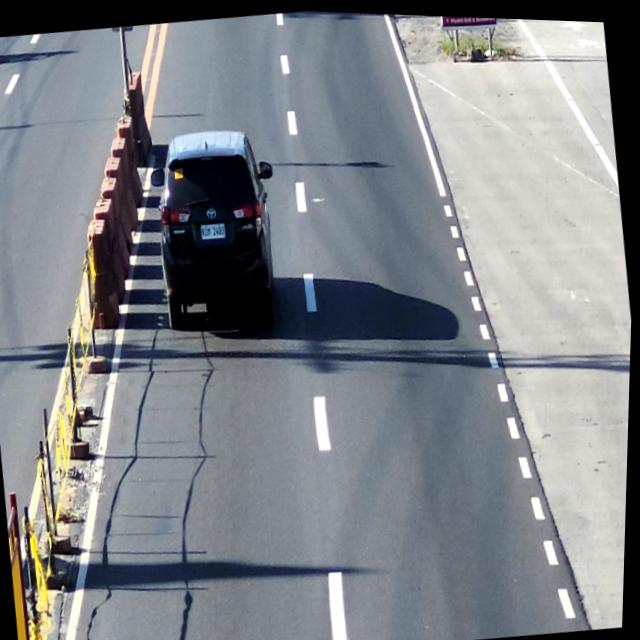Car: (147, 115, 284, 330)
License-Plate: (200, 216, 230, 244)
